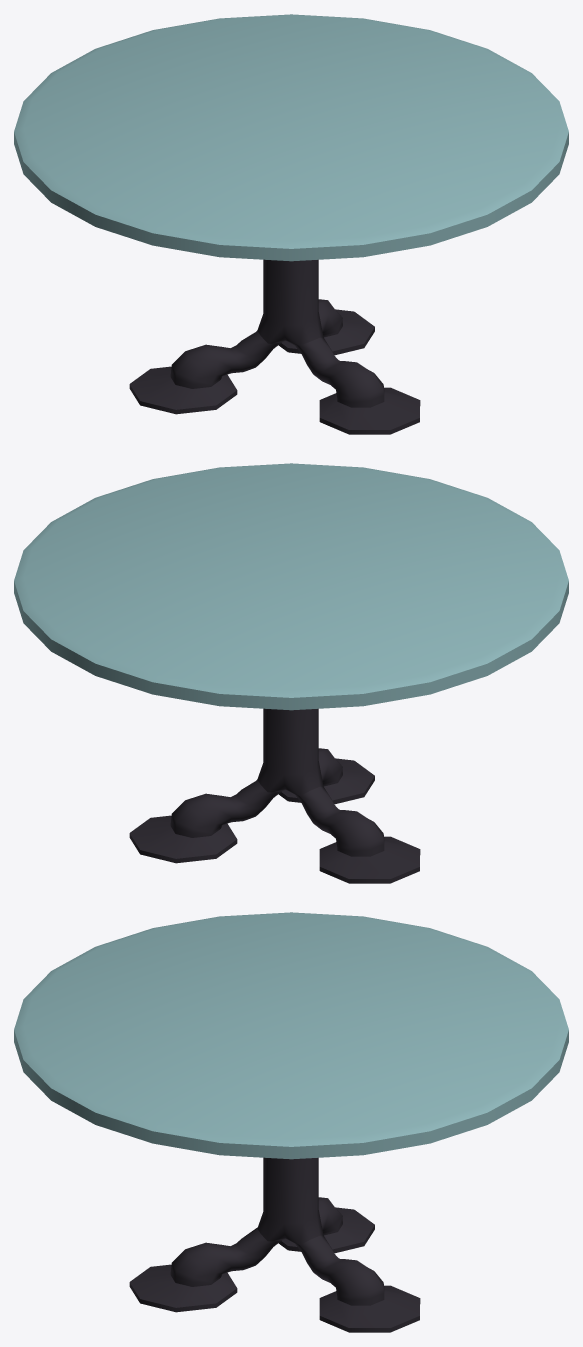
Rendered from 147_round_table.glb.
3 renders of one model, top to bottom at view 1: azimuth 30°, elevation 25°; view 2: azimuth 150°, elevation 25°; view 3: azimuth 270°, elevation 25°, orthographic.
Visible parts, largest first — view 1: table, feet; view 2: table, feet; view 3: table, feet.
Part boxes in pixels (x1,y1,x2,y2): table: [14, 14, 568, 261]; feet: [129, 259, 420, 434]; table: [14, 463, 568, 710]; feet: [129, 708, 420, 883]; table: [14, 912, 568, 1159]; feet: [129, 1157, 420, 1332].
Size of the model in its own units: 1.5 by 0.75 by 1.5.
